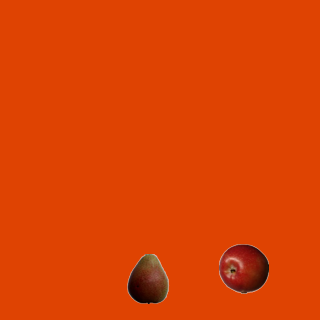Apple Braeburn: (218, 243, 268, 293)
Pear Forelle: (122, 253, 172, 303)
